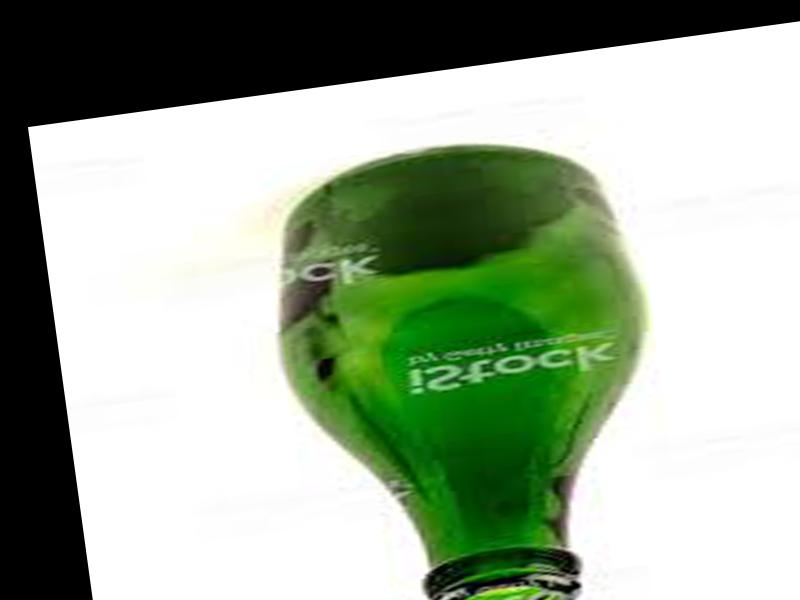Beer: (254, 122, 686, 600)
